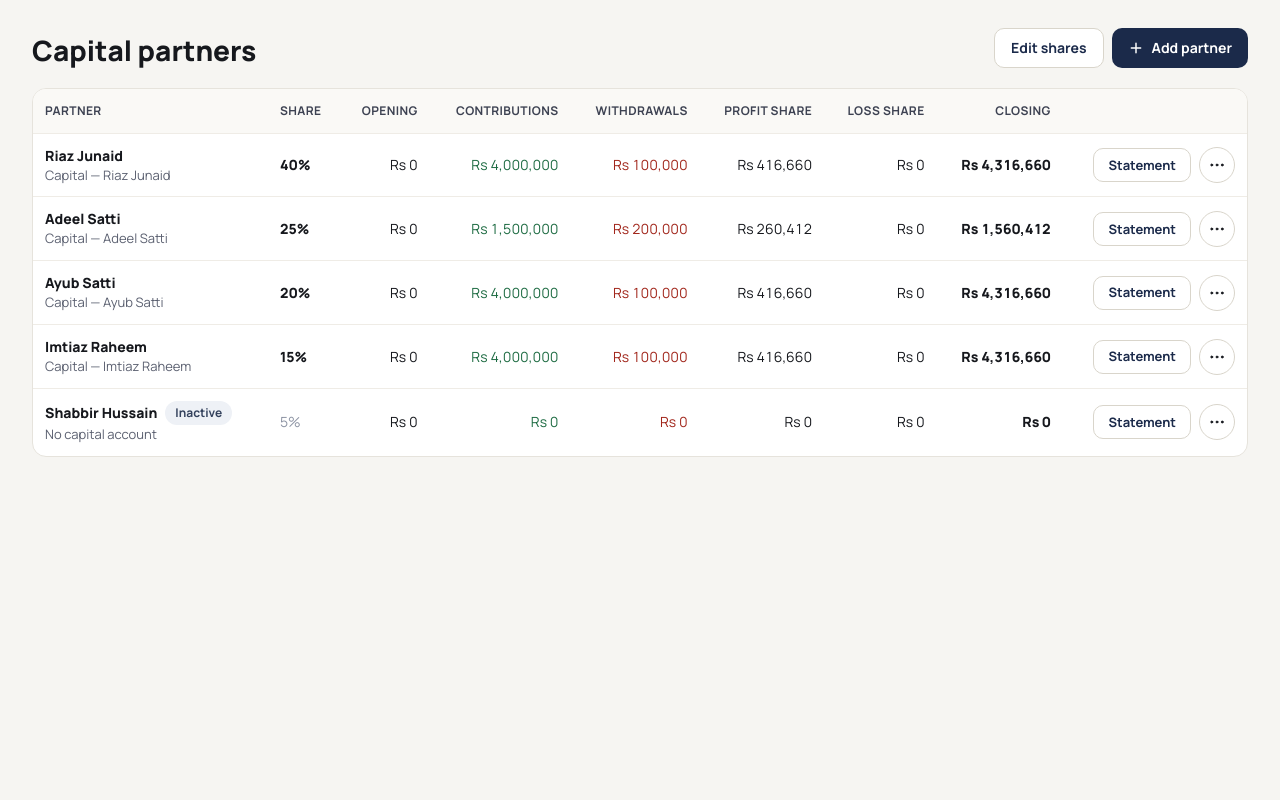
it: Capital partners: the list › keeps the old rows on screen while a refresh is on its way
What coordinates should you click on to do the following:
click the button named "More for Riaz Junaid"
I would click on:
 (1217, 165)
Its box is [1199,147,1235,183].
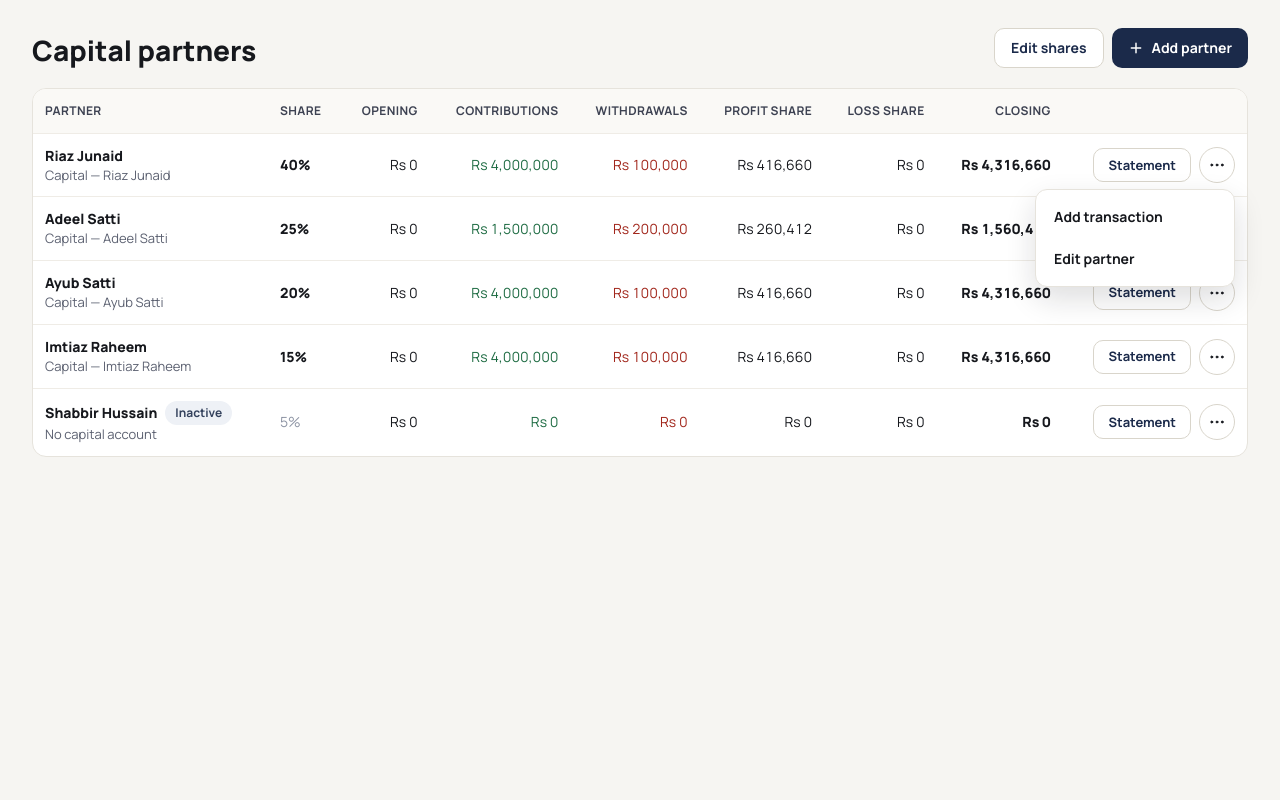
What coordinates should you click on to do the following:
click the menu item "Edit partner"
I would click on:
 (1135, 259)
Its box is [1042,238,1228,280].
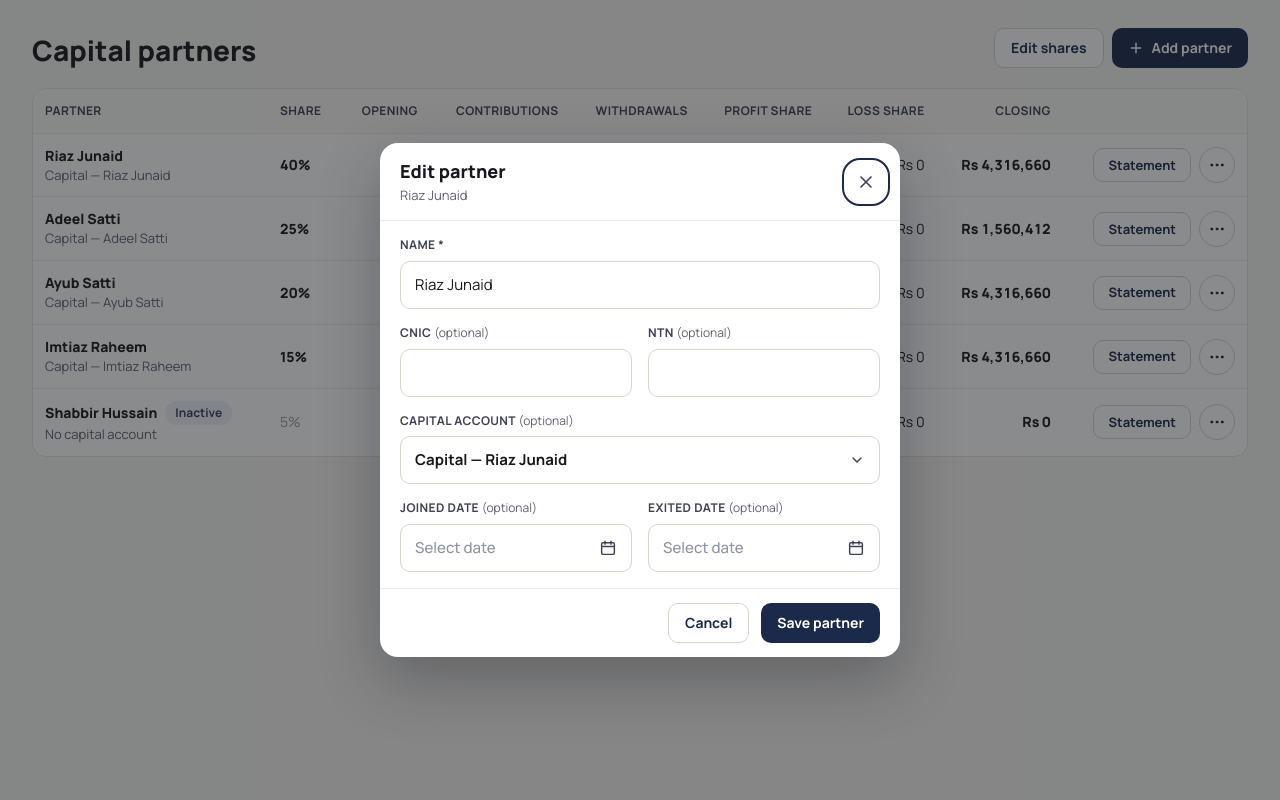
What coordinates should you click on to do the following:
click the button "Save partner"
I would click on:
 (821, 623)
Its box is [761,603,880,643].
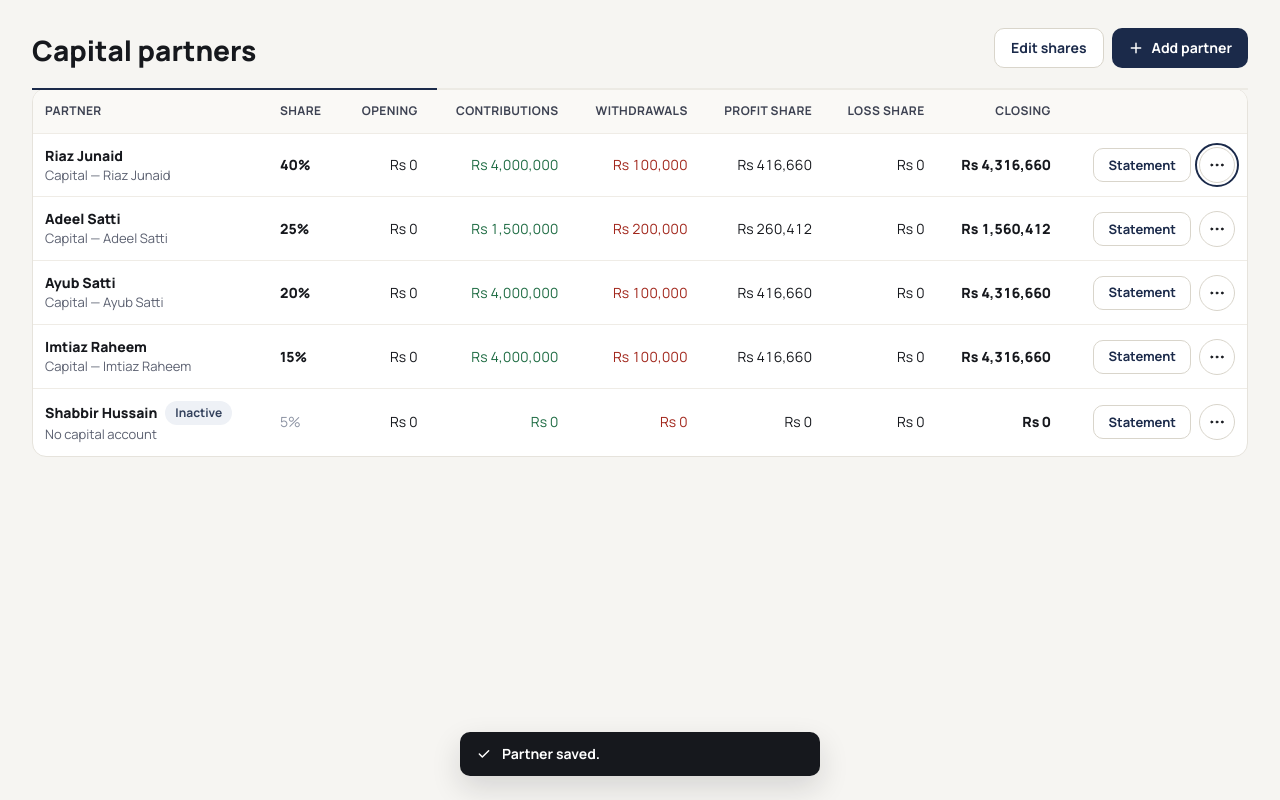
Expected: the text "Riaz Junaid" is shown, [45,146,123,166]
Expected: the dialog is gone
Expected: the progress indicator named "Loading" is shown, [32,88,1248,90]
